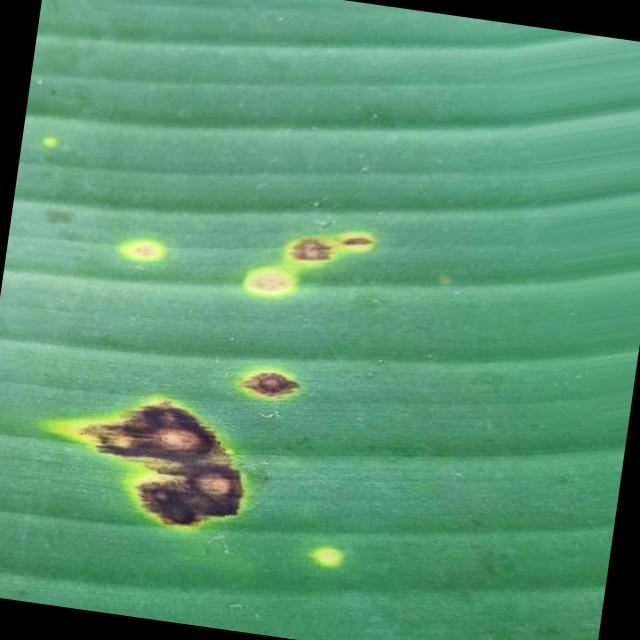Banana_Black_Sigatoka: (23, 208, 390, 598)
